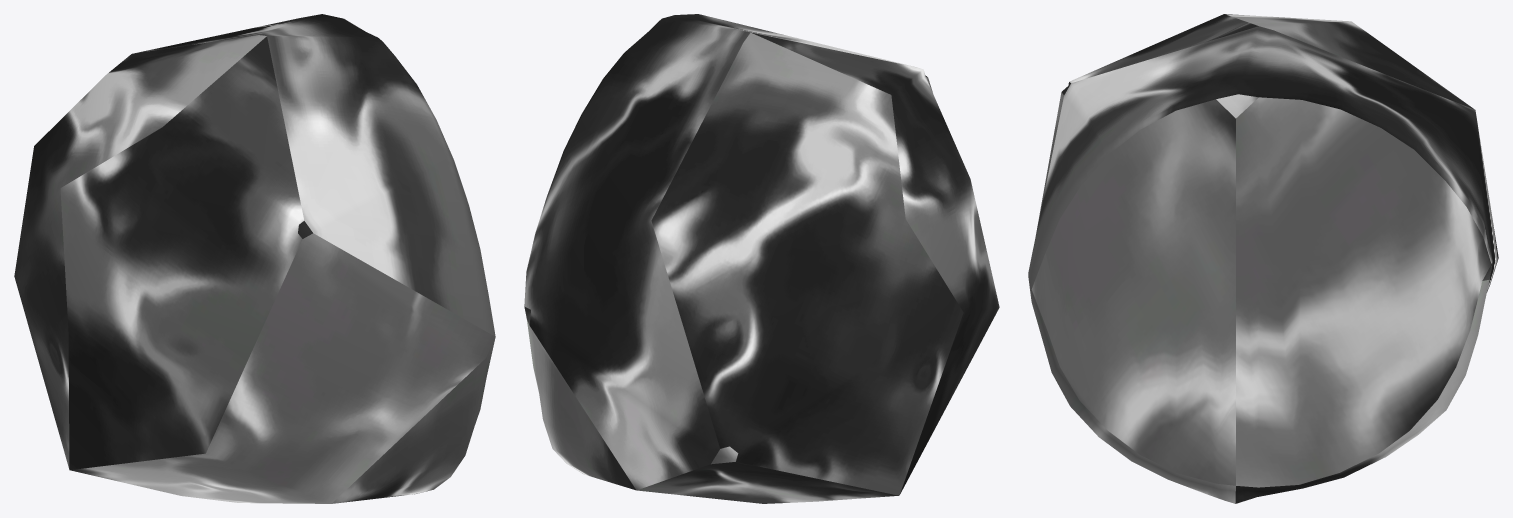
3 renders of one model, left to right at view 1: azimuth 30°, elevation 25°; view 2: azimuth 150°, elevation 25°; view 3: azimuth 270°, elevation 25°, orthographic. The views are drawn at different scales.
Visible parts, largest first — view 1: SM_Vault_Mirror_Door_Crystal_01_LOD0; view 2: SM_Vault_Mirror_Door_Crystal_01_LOD0; view 3: SM_Vault_Mirror_Door_Crystal_01_LOD0.
Part boxes in pixels (<box>): SM_Vault_Mirror_Door_Crystal_01_LOD0: <box>14,14,495,503</box>; SM_Vault_Mirror_Door_Crystal_01_LOD0: <box>524,14,999,503</box>; SM_Vault_Mirror_Door_Crystal_01_LOD0: <box>1028,14,1498,503</box>.
Size of the model in its own units: 0.4384 by 0.6337 by 0.6239.
1 material, 1 textured.
